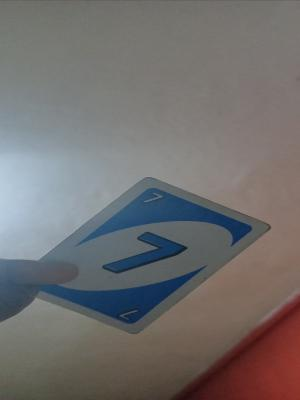blue: (114, 208, 163, 314)
num_7: (113, 307, 145, 324), (135, 191, 168, 207)
